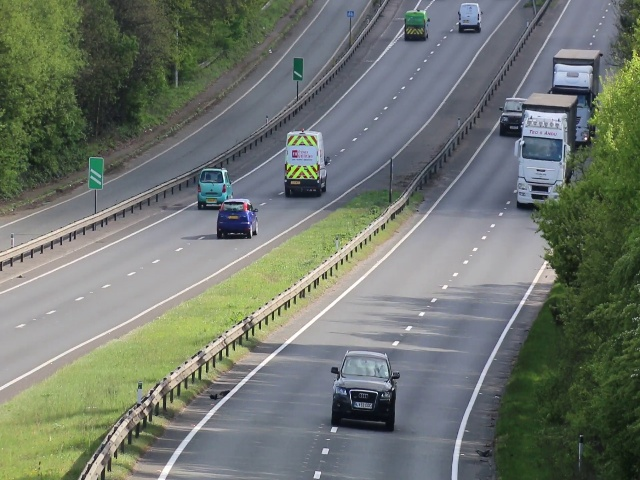car: (331, 347, 396, 432), (283, 128, 328, 196), (520, 123, 559, 199), (217, 199, 259, 239), (402, 9, 430, 43), (456, 1, 483, 34), (195, 169, 216, 211), (501, 97, 522, 131)
